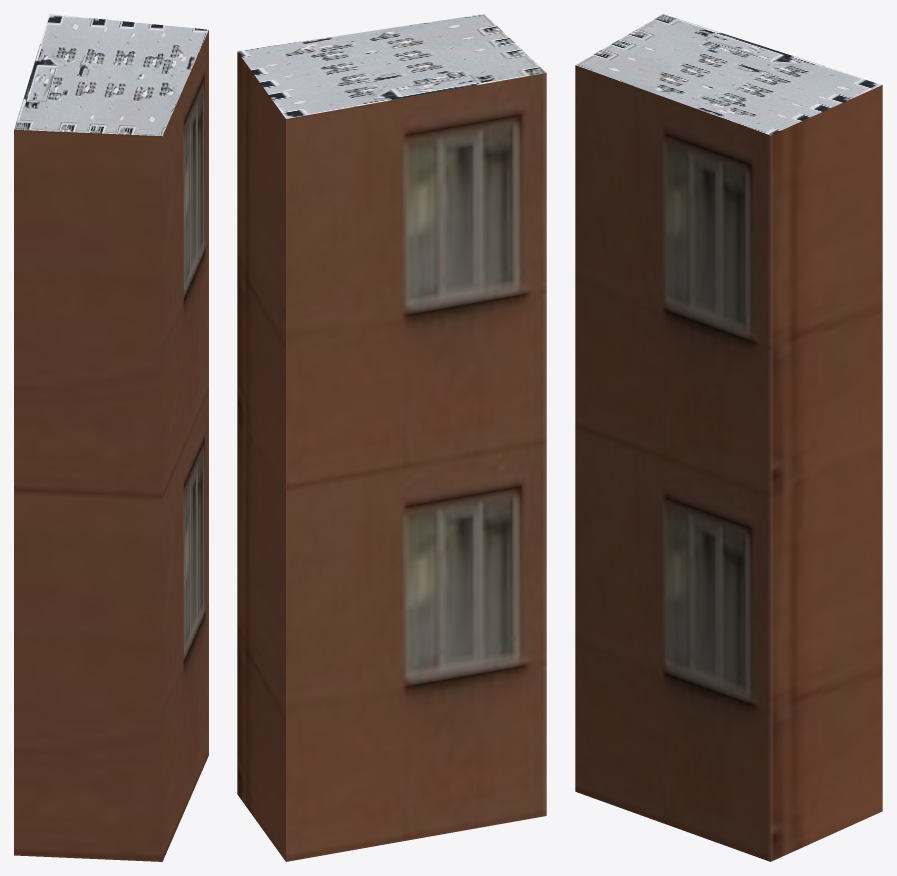
The model's file is ResTex__170.fbx.
3 renders of one model, left to right at view 1: azimuth 30°, elevation 25°; view 2: azimuth 150°, elevation 25°; view 3: azimuth 270°, elevation 25°, orthographic. The views are drawn at different scales.
Visible parts, largest first — view 1: CityEngineMaterial_20_m, CityEngineMaterial_2_m; view 2: CityEngineMaterial_20_m, CityEngineMaterial_2_m; view 3: CityEngineMaterial_20_m, CityEngineMaterial_2_m.
Boxes of the visible parts, left/top/right/bottom form: CityEngineMaterial_20_m: left=14, top=30, right=208, bottom=861; CityEngineMaterial_2_m: left=14, top=14, right=208, bottom=136; CityEngineMaterial_20_m: left=237, top=52, right=546, bottom=861; CityEngineMaterial_2_m: left=237, top=14, right=546, bottom=118; CityEngineMaterial_20_m: left=575, top=65, right=882, bottom=861; CityEngineMaterial_2_m: left=575, top=14, right=882, bottom=135.
Bounding box in the file's own units: 2.15 × 6 × 2.3.
2 materials, 2 textured.
